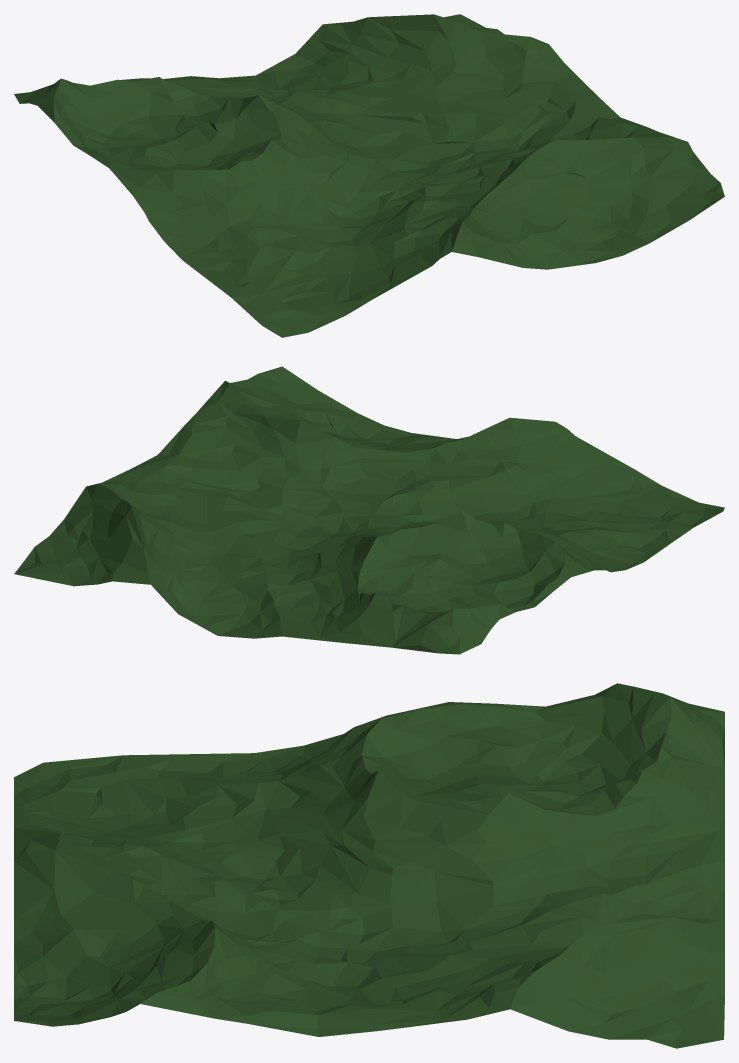
The model's file is SM_landscape_17.fbx.
The picture shows the model from 3 angles, top to bottom: view 1: azimuth 30°, elevation 25°; view 2: azimuth 150°, elevation 25°; view 3: azimuth 270°, elevation 25°; orthographic projection. The views are drawn at different scales.
Parts seen in each view (by area): view 1: landscape_17; view 2: landscape_17; view 3: landscape_17.
Boxes of the visible parts, x1,y1,x2,y2 form: landscape_17: [14, 14, 724, 337]; landscape_17: [14, 366, 724, 654]; landscape_17: [14, 683, 724, 1048].
Bounding box in the file's own units: 2224 × 348 × 2224.
